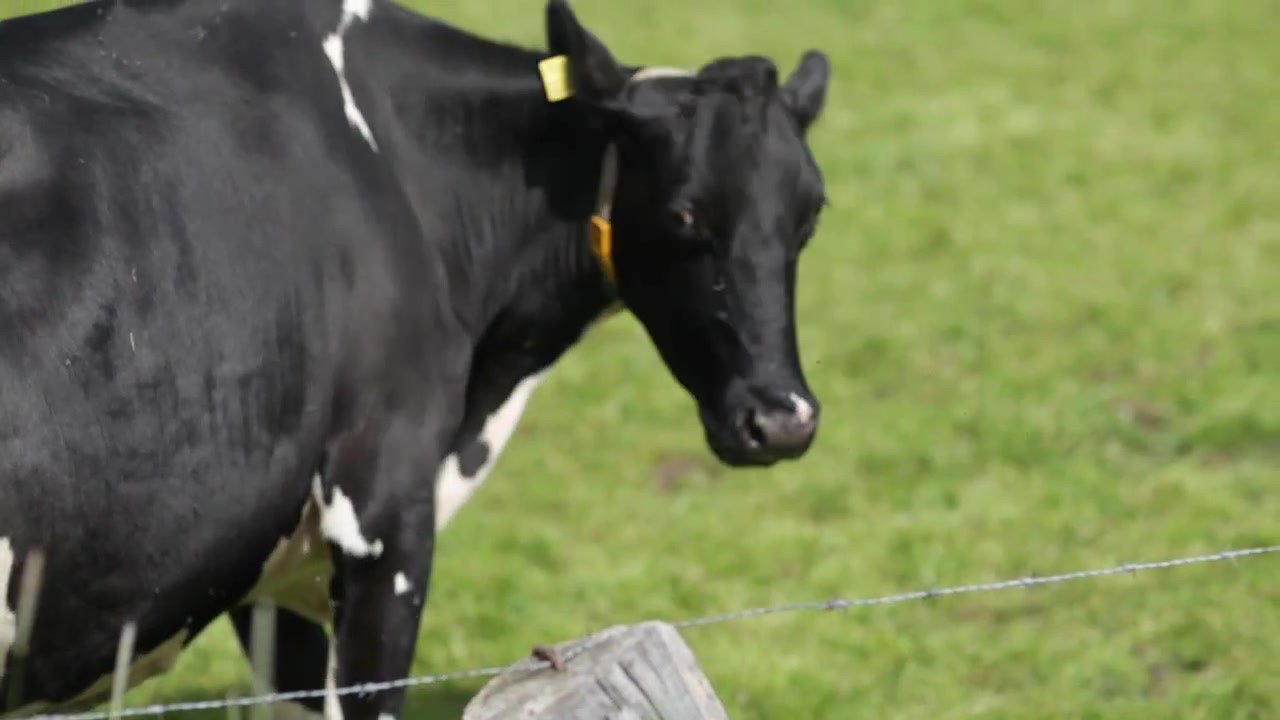cow: (1, 1, 833, 720)
